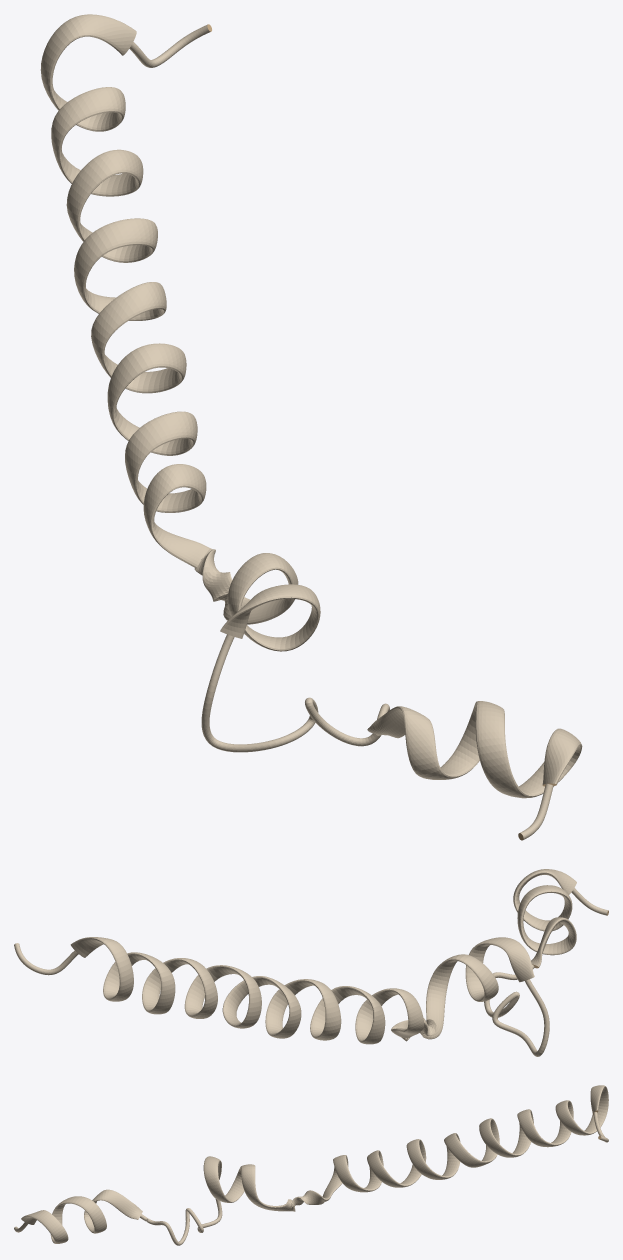
The model's file is rCoilfCoilHelix.dae.
The picture shows the model from 3 angles, top to bottom: view 1: azimuth 30°, elevation 25°; view 2: azimuth 150°, elevation 25°; view 3: azimuth 270°, elevation 25°; orthographic projection. The views are drawn at different scales.
Parts seen in each view (by area): view 1: Shape_IndexedTriangleStripSet_060; view 2: Shape_IndexedTriangleStripSet_060; view 3: Shape_IndexedTriangleStripSet_060.
Boxes of the visible parts, x1=… form: Shape_IndexedTriangleStripSet_060: x1=40, y1=14, x2=582, y2=840; Shape_IndexedTriangleStripSet_060: x1=14, y1=869, x2=608, y2=1056; Shape_IndexedTriangleStripSet_060: x1=14, y1=1085, x2=608, y2=1245.
Size of the model in its own units: 27.93 by 73.46 by 26.77.
